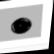correct: (7, 12, 35, 37)
